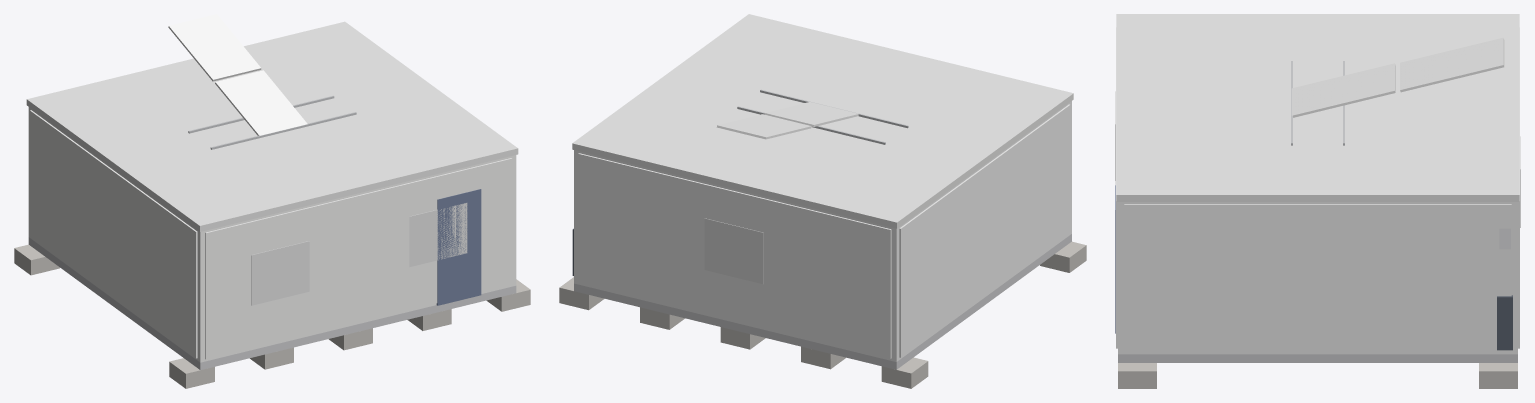
The model's file is Studio-20-FullSolar-LOD1.glb.
3 views of the same model, side by side, from view 1: azimuth 30°, elevation 25°; view 2: azimuth 150°, elevation 25°; view 3: azimuth 270°, elevation 25° (orthographic). The views are drawn at different scales.
Parts seen in each view (by area): view 1: ExteriorPanelsStandard, RoofMain, SolarPanelArray, WindowsStandard, EntryDoor, FoundationBlocks, ExteriorShell, BaseFrame, SolarMountingHardware; view 2: ExteriorPanelsStandard, RoofMain, FoundationBlocks, ExteriorShell, BaseFrame, WindowsStandard, SolarPanelArray, SolarMountingHardware; view 3: RoofMain, ExteriorPanelsStandard, SolarPanelArray, ExteriorShell, BaseFrame, FoundationBlocks, SolarBattery.
Boxes of the visible parts, left/top/right/bottom form: ExteriorPanelsStandard: left=30, top=110, right=512, bottom=359; RoofMain: left=26, top=21, right=518, bottom=231; SolarPanelArray: left=168, top=14, right=307, bottom=135; WindowsStandard: left=251, top=203, right=467, bottom=305; EntryDoor: left=436, top=189, right=481, bottom=305; FoundationBlocks: left=14, top=244, right=530, bottom=388; ExteriorShell: left=28, top=107, right=516, bottom=362; BaseFrame: left=28, top=237, right=516, bottom=370; SolarMountingHardware: left=188, top=95, right=356, bottom=149; ExteriorPanelsStandard: left=578, top=104, right=1070, bottom=358; RoofMain: left=572, top=14, right=1073, bottom=228; FoundationBlocks: left=559, top=241, right=1086, bottom=388; ExteriorShell: left=574, top=101, right=1071, bottom=361; BaseFrame: left=574, top=234, right=1071, bottom=369; WindowsStandard: left=704, top=218, right=763, bottom=284; SolarPanelArray: left=716, top=102, right=858, bottom=139; SolarMountingHardware: left=737, top=89, right=908, bottom=144; RoofMain: left=1116, top=14, right=1519, bottom=201; ExteriorPanelsStandard: left=1116, top=27, right=1519, bottom=352; SolarPanelArray: left=1291, top=37, right=1504, bottom=117; ExteriorShell: left=1118, top=202, right=1517, bottom=354; BaseFrame: left=1118, top=354, right=1517, bottom=362; FoundationBlocks: left=1118, top=363, right=1517, bottom=388; SolarBattery: left=1497, top=295, right=1512, bottom=350.
Bounding box in the file's own units: 7.14 × 4.07 × 6.24.
